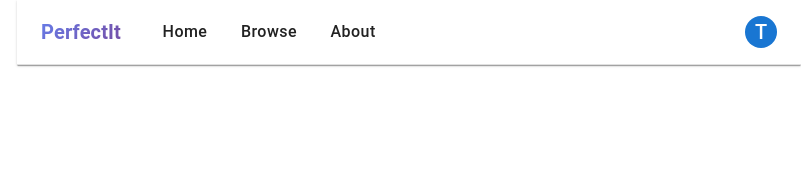
Test: Navigation › Authenticated state › opens user menu on avatar click
Click the button named "account of current user" at (761, 32), box [733, 4, 789, 60]
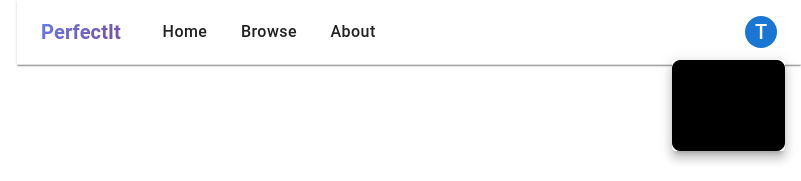
Now the menu item "Dashboard" is shown, box [673, 69, 784, 105]
